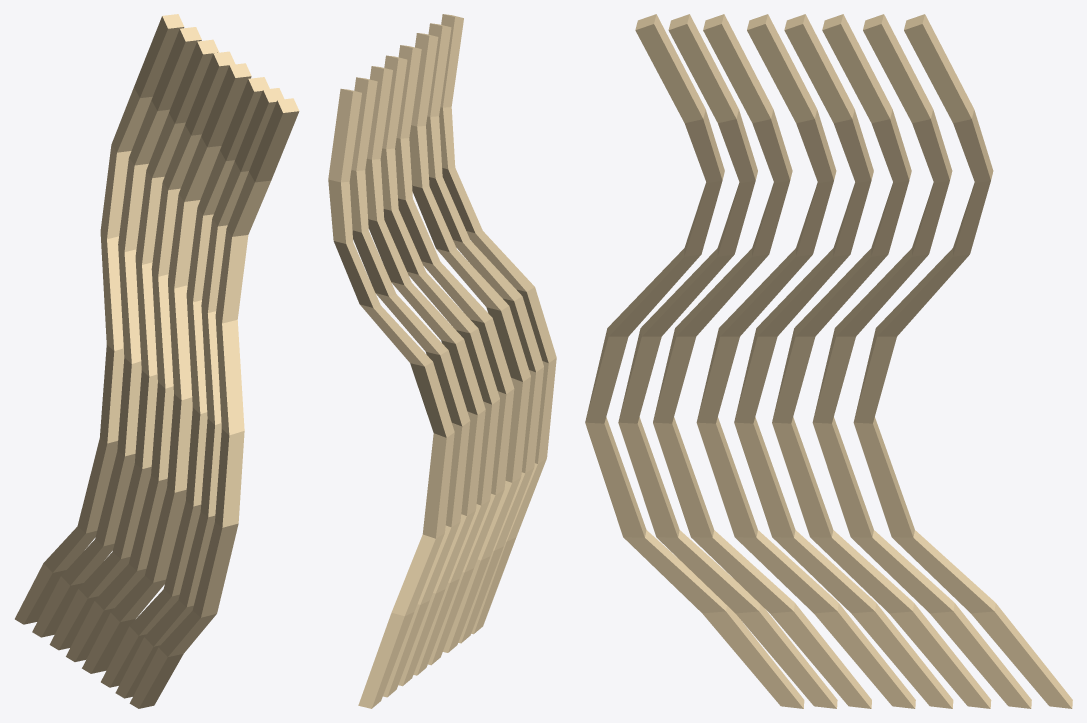
The model's file is SpaghettiModel.fbx.
3 views of the same model, side by side, from view 1: azimuth 30°, elevation 25°; view 2: azimuth 150°, elevation 25°; view 3: azimuth 270°, elevation 25° (orthographic). The views are drawn at different scales.
Visible parts, largest first — view 1: Spaghetti; view 2: Spaghetti; view 3: Spaghetti.
Part boxes in pixels (box(x1,y1,x2,y2)): Spaghetti: box(15, 14, 299, 708); Spaghetti: box(328, 14, 556, 708); Spaghetti: box(585, 14, 1072, 708).
Bounding box in the file's own units: 9.07 × 31.21 × 51.84.
